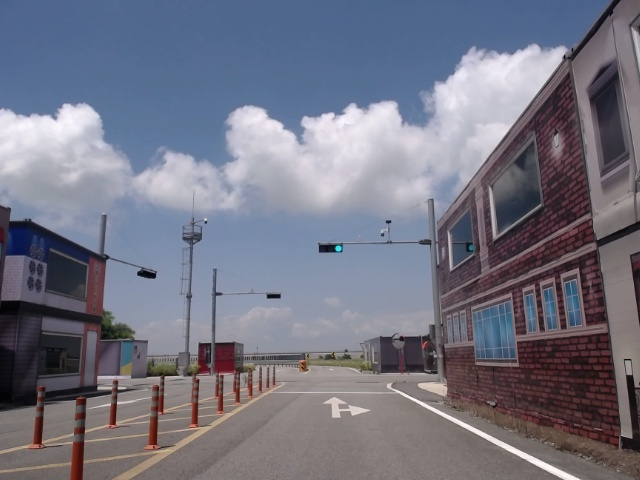green_3: (319, 244, 343, 252)
